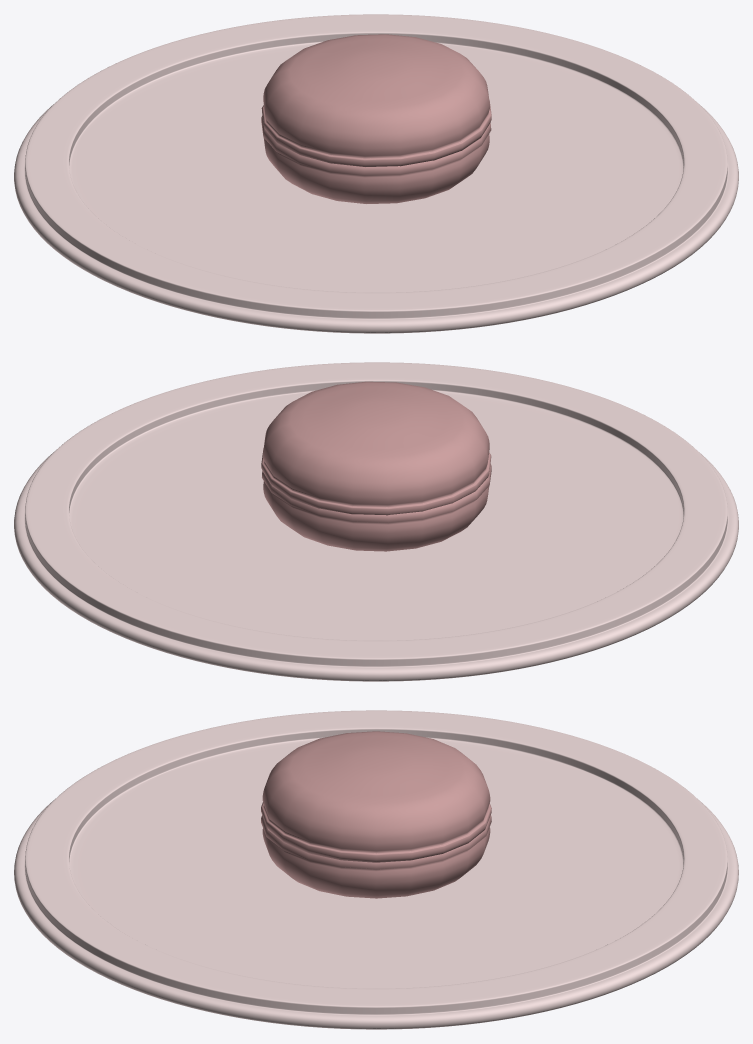
File: clam_open.fbx
3 renders of one model, top to bottom at view 1: azimuth 30°, elevation 25°; view 2: azimuth 150°, elevation 25°; view 3: azimuth 270°, elevation 25°, orthographic.
Visible parts, largest first — view 1: pDisc1, Macaron_2, Macaron; view 2: pDisc1, Macaron_2, Macaron; view 3: pDisc1, Macaron_2, Macaron.
Boxes of the visible parts, x1,y1,x2,y2 form: pDisc1: (14, 14, 738, 333); Macaron_2: (261, 34, 491, 166); Macaron: (261, 116, 491, 203); pDisc1: (14, 362, 738, 681); Macaron_2: (261, 381, 491, 515); Macaron: (262, 464, 491, 551); pDisc1: (14, 710, 738, 1029); Macaron_2: (261, 731, 491, 862); Macaron: (261, 815, 491, 898).
Size of the model in its own units: 28.1 by 5.08 by 28.1.
